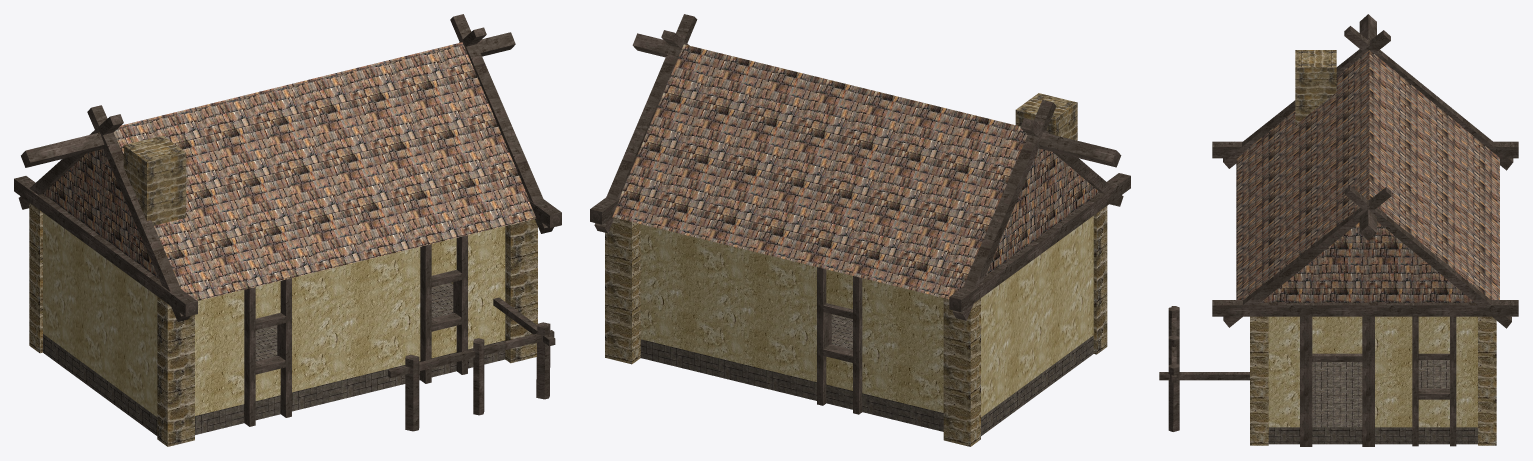
File: houses_cityhouse3.glb
3 renders of one model, left to right at view 1: azimuth 30°, elevation 25°; view 2: azimuth 150°, elevation 25°; view 3: azimuth 270°, elevation 25°, orthographic. The views are drawn at different scales.
Visible parts, largest first — view 1: cityhouse3; view 2: cityhouse3; view 3: cityhouse3.
Boxes of the visible parts, box(x1,y1,x2,y2) form: cityhouse3: box(14, 14, 561, 446); cityhouse3: box(590, 14, 1130, 446); cityhouse3: box(1159, 14, 1518, 446).
Size of the model in its own units: 20 by 11.4 by 14.38.
6 materials, 6 textured.
